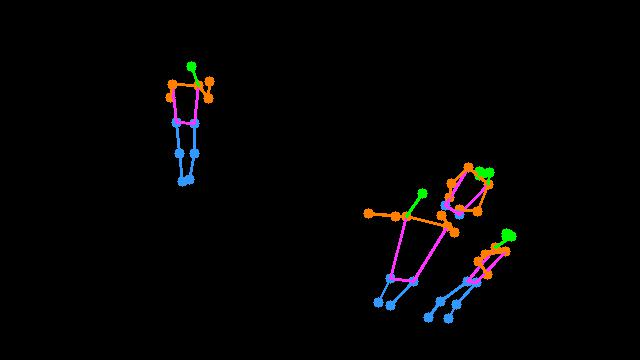normal: (343, 133, 539, 339), (136, 36, 234, 203)
